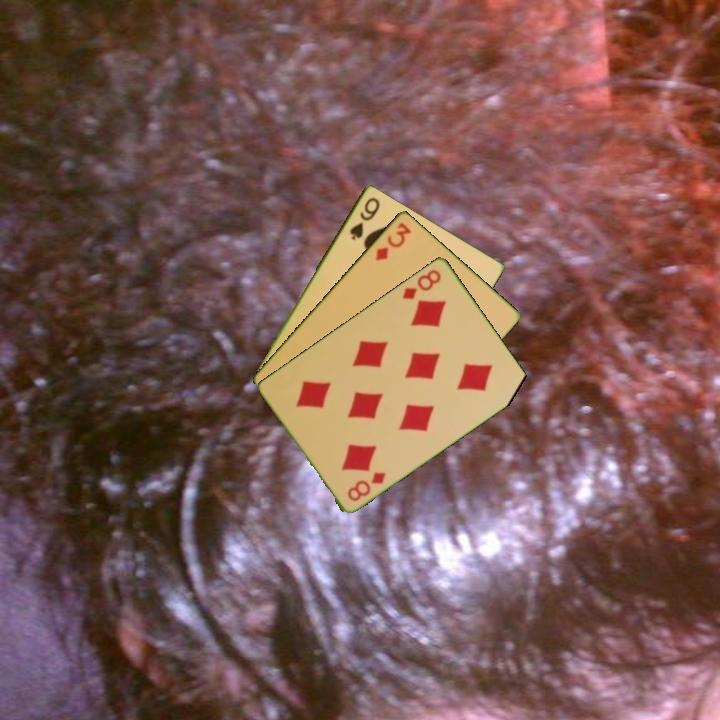3d: (372, 218, 414, 263)
8d: (398, 265, 444, 302), (344, 468, 389, 504)
9s: (346, 193, 383, 243)
